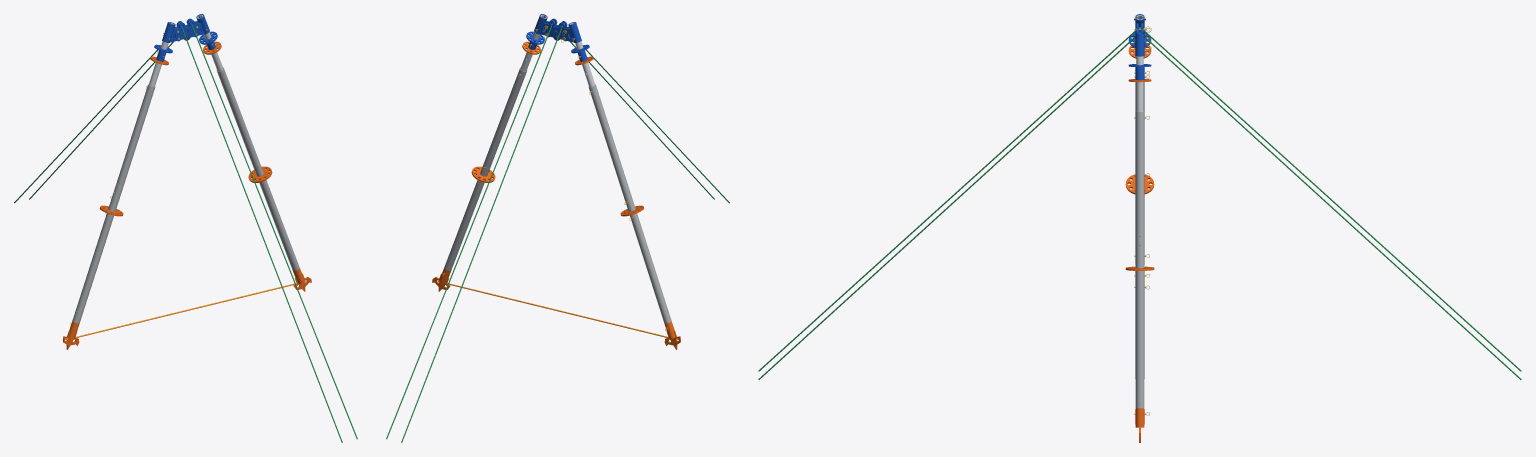
Rendered from bipode_vortex_armado.glb.
3 renders of one model, left to right at view 1: azimuth 30°, elevation 25°; view 2: azimuth 150°, elevation 25°; view 3: azimuth 270°, elevation 25°, orthographic. The views are drawn at different scales.
Parts seen in each view (by area): view 1: inf1_i, inf2_i, inf1_d, viento_O2_-1, inf2_d, viento_O1_-1, maniota, placa_trasera, viento_O1_1; view 2: inf1_i, inf2_i, inf1_d, viento_O2_1, inf2_d, viento_O1_1, maniota, placa_delantera, viento_O1_-1; view 3: inf1_d, inf2_d, viento_O1_-1, viento_O1_1, viento_O2_-1, viento_O2_1.
Boxes of the visible parts, box(x1,y1,x2,y2) form: inf1_i: box(113, 84, 155, 197); inf2_i: box(72, 213, 113, 323); inf1_d: box(216, 67, 259, 164); viento_O2_-1: box(191, 23, 357, 439); inf2_d: box(259, 178, 299, 270); viento_O1_-1: box(181, 25, 342, 442); maniota: box(66, 281, 305, 340); placa_trasera: box(170, 20, 204, 42); viento_O1_1: box(14, 49, 157, 203); inf1_i: box(588, 84, 630, 197); inf2_i: box(630, 213, 671, 323); inf1_d: box(484, 67, 527, 164); viento_O2_1: box(386, 23, 552, 439); inf2_d: box(444, 178, 484, 270); viento_O1_1: box(401, 25, 562, 442); maniota: box(438, 281, 677, 340); placa_delantera: box(539, 20, 573, 42); viento_O1_-1: box(586, 49, 729, 203); inf1_d: box(1135, 111, 1144, 250); inf2_d: box(1135, 271, 1144, 408); viento_O1_-1: box(758, 26, 1139, 371); viento_O1_1: box(1140, 26, 1521, 371); viento_O2_-1: box(758, 32, 1139, 379); viento_O2_1: box(1140, 32, 1521, 379).
Bounding box in the file's own units: 2235 × 2601 × 5114.
